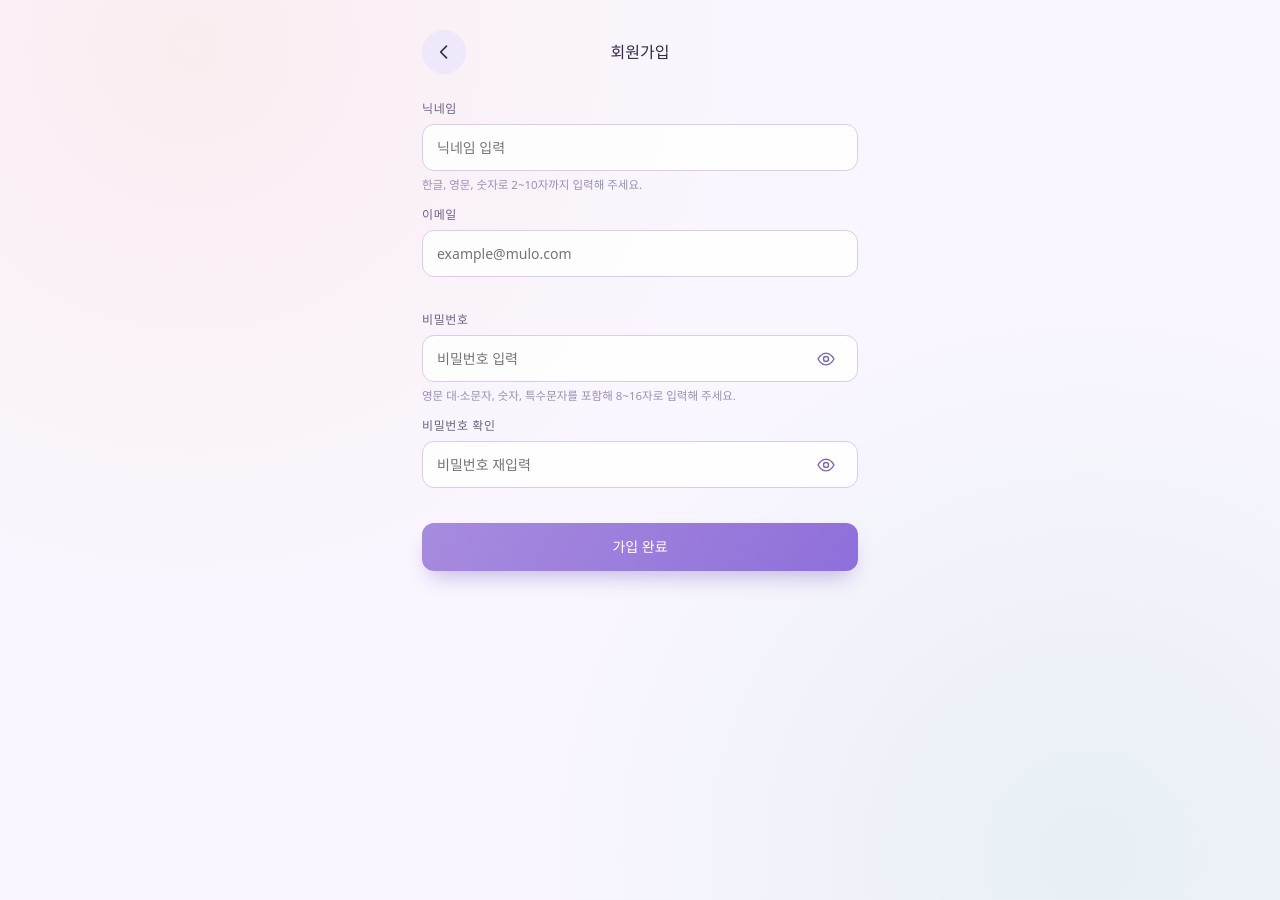
Scenario: SignupPage › disables submission and sends only one request while pending
The image size is (1280, 900).
In the field labelled "닉네임": (640, 148) [422,124,858,171], type "뮬로"
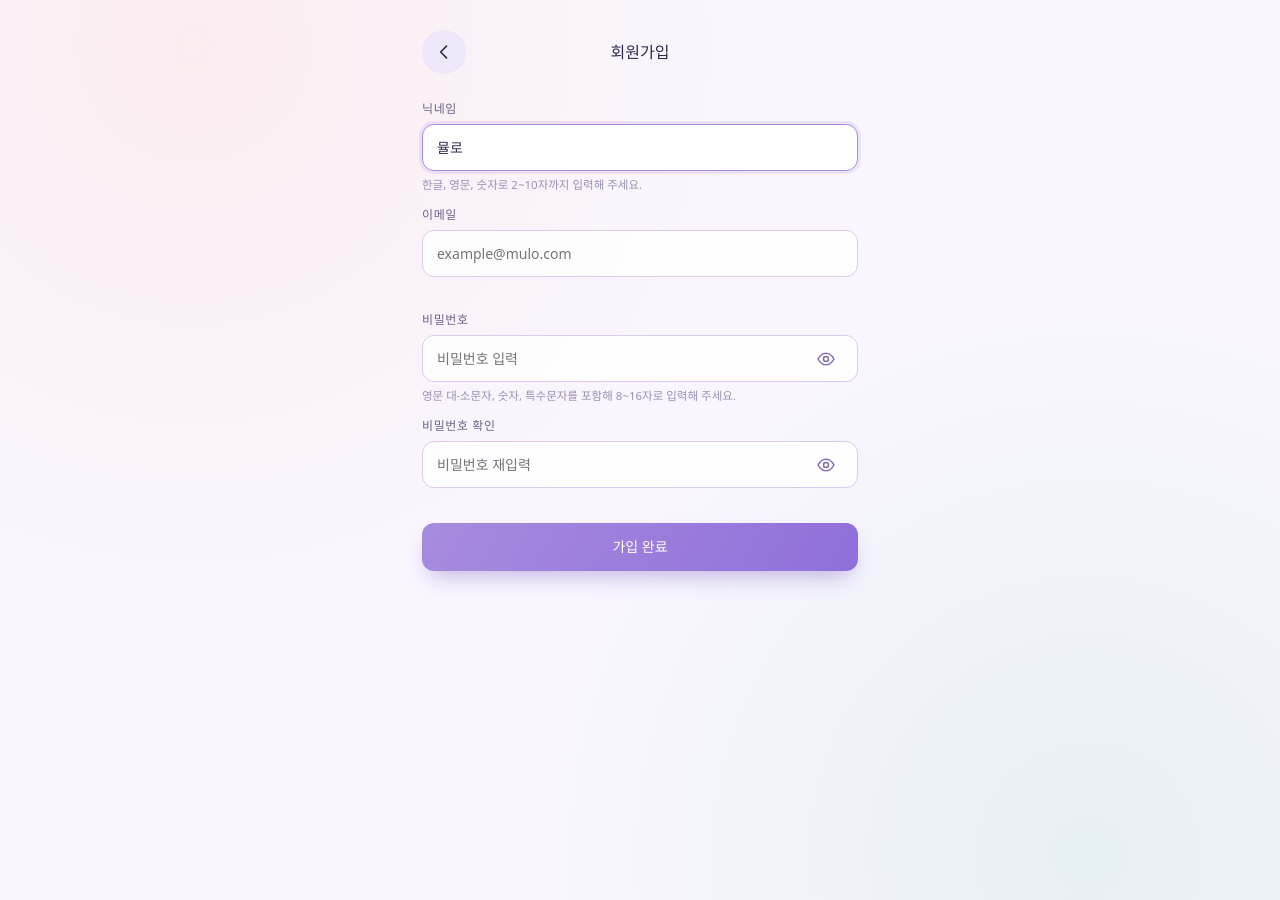
In the field labelled "이메일": (640, 253) [422,230,858,277], type "user@example.com"
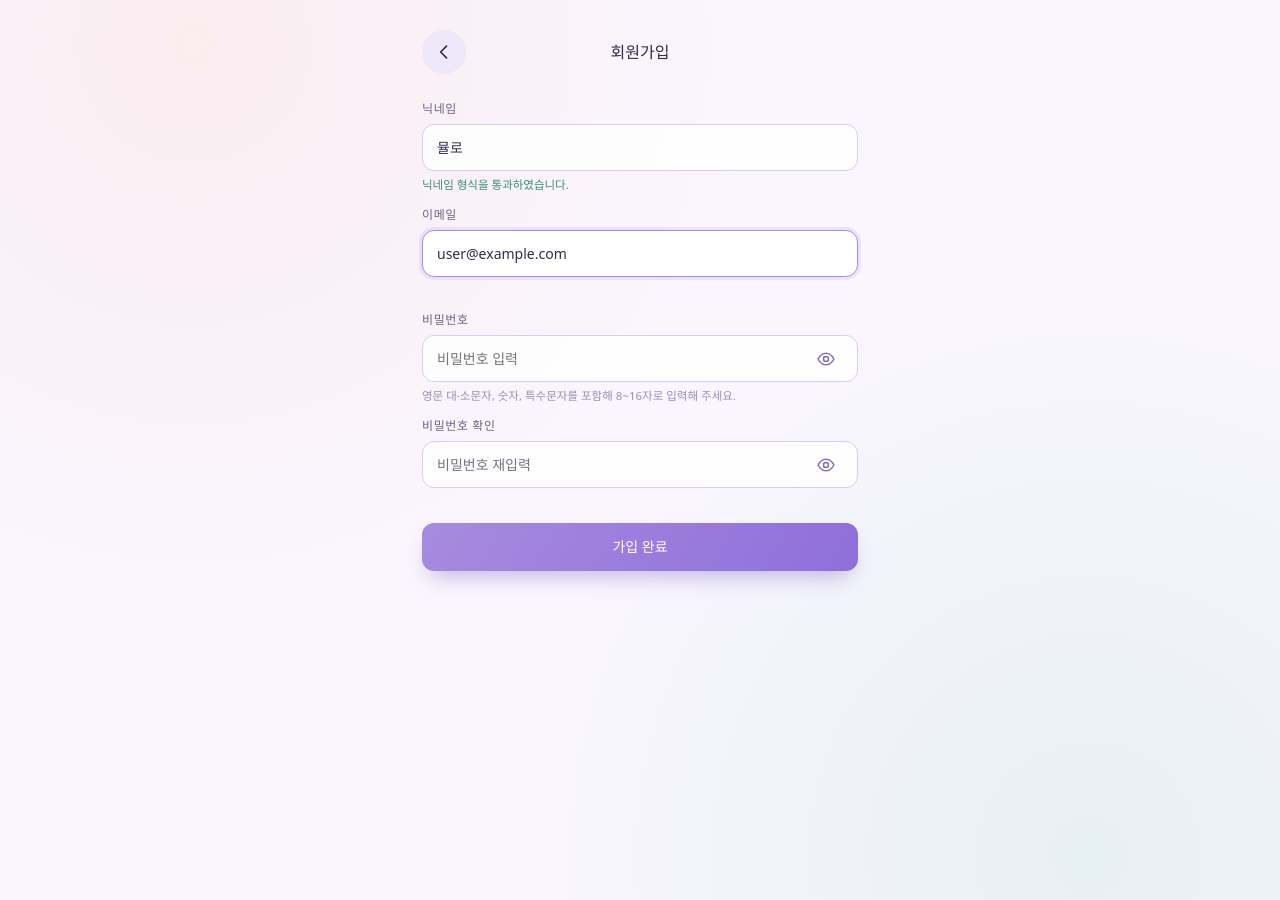
In the password field labelled "비밀번호": (640, 359) [422,335,858,382], type "Password1!"
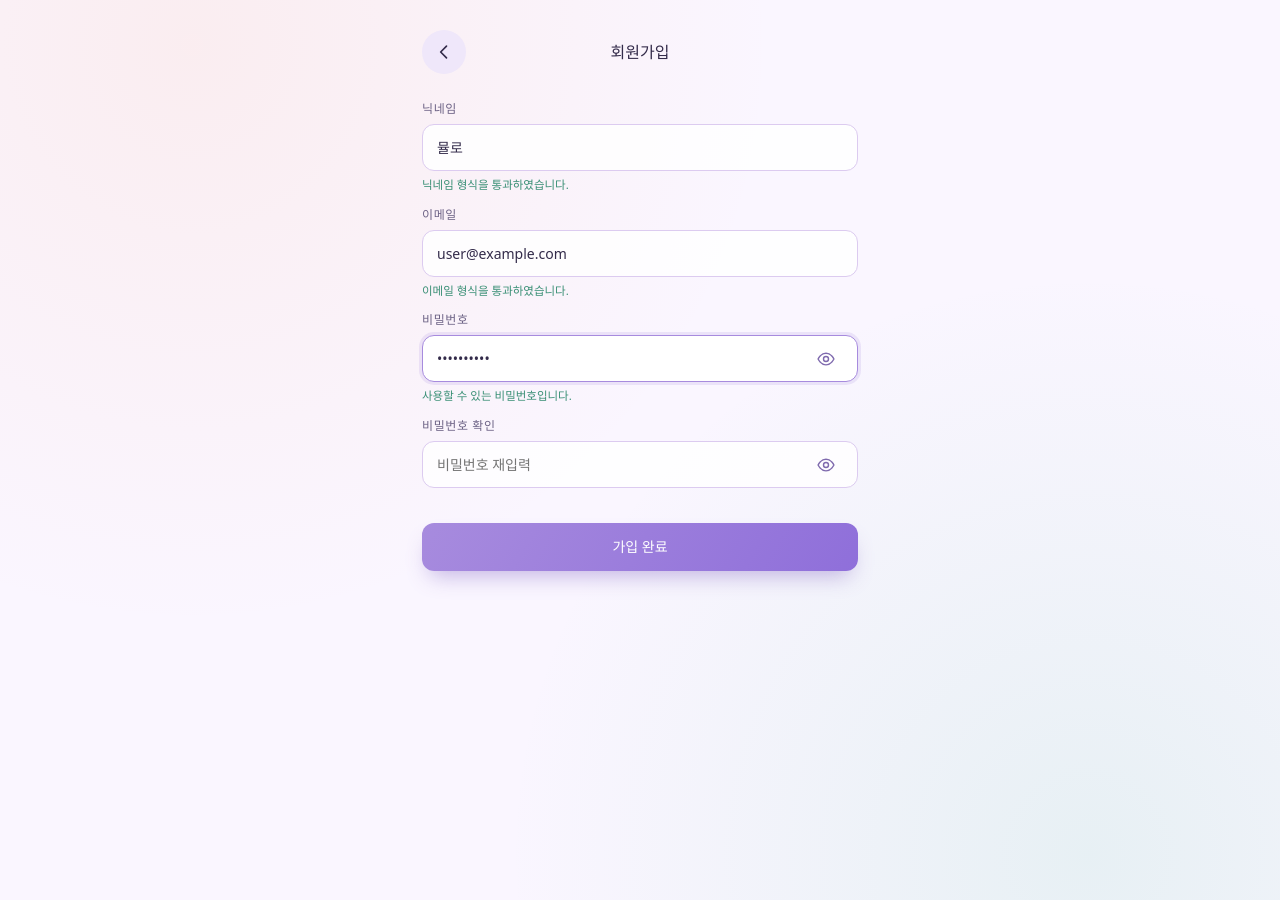
In the password field labelled "비밀번호 확인": (640, 465) [422,441,858,488], type "Password1!"
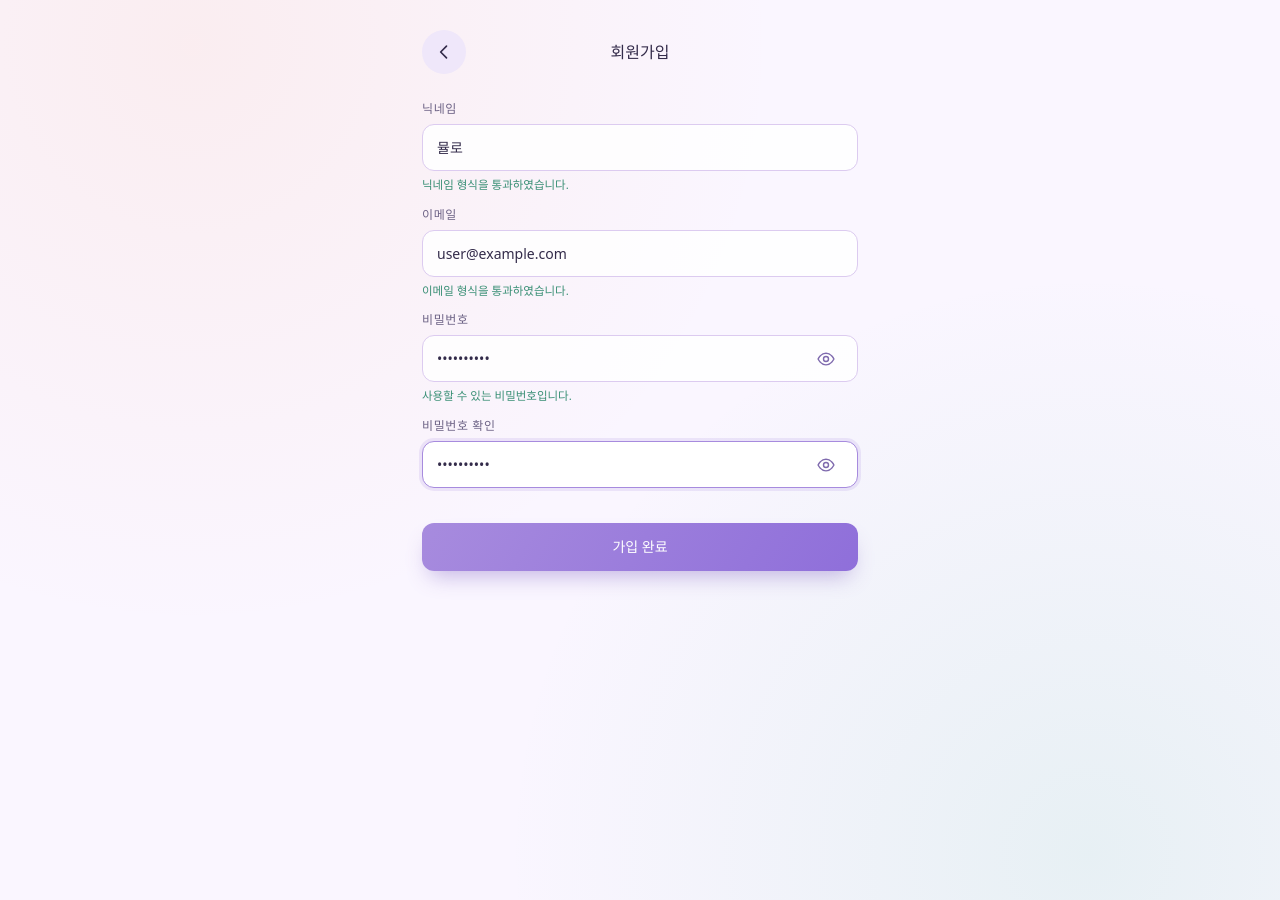
Double-click the button "가입 완료": (640, 547) [422,523,858,571]
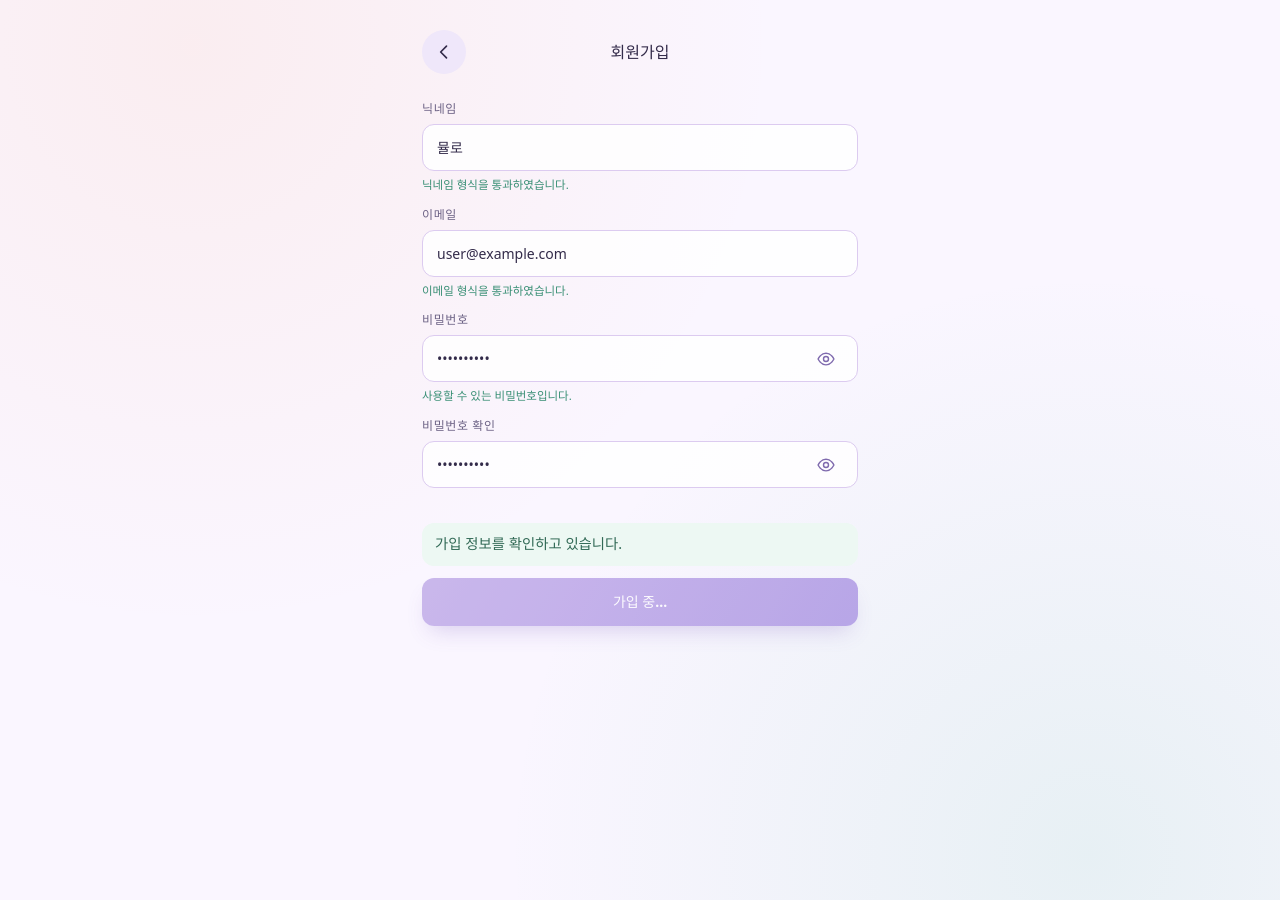
Now the button named "가입 완료" is disabled, box [422,578,858,626]
